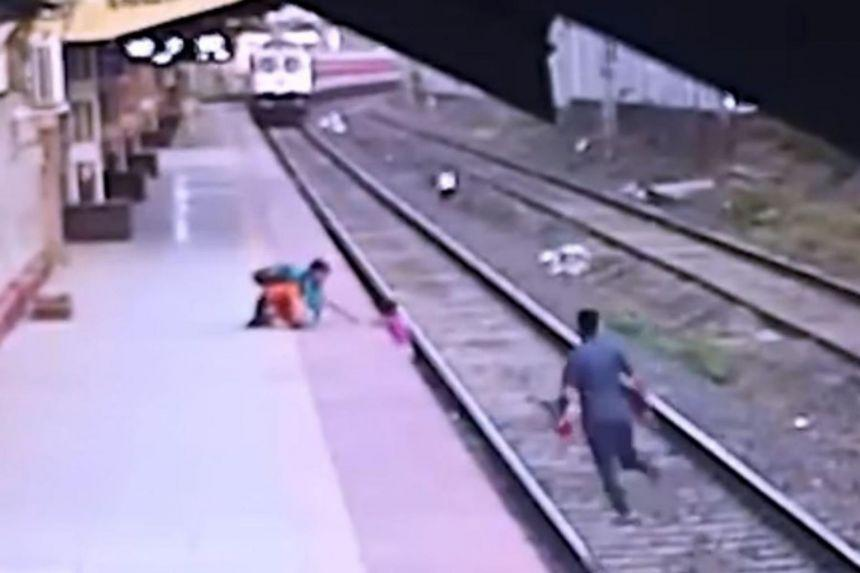person: (529, 288, 694, 544), (245, 230, 353, 341), (373, 284, 418, 372)
